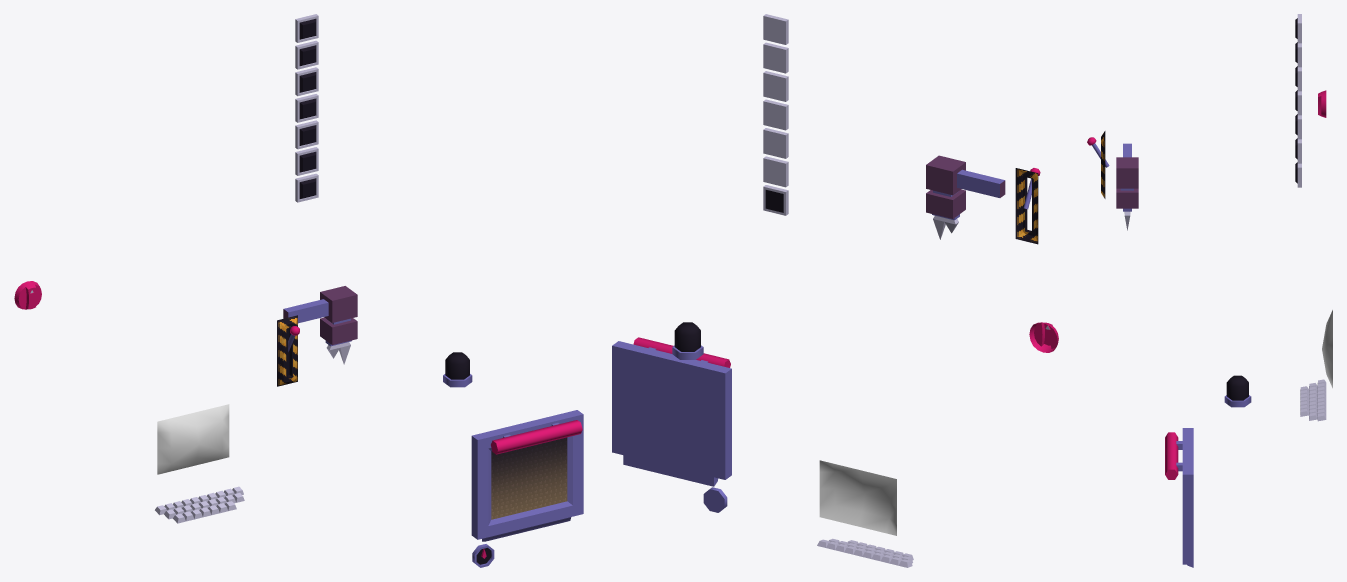
File: machineREMOVABLES.fbx
3 renders of one model, left to right at view 1: azimuth 30°, elevation 25°; view 2: azimuth 150°, elevation 25°; view 3: azimuth 270°, elevation 25°, orthographic. The views are drawn at different scales.
Visible parts, largest first — view 1: Cylinder.014, Cylinder.004, Cube.012, Cube.008, Cube.005, Cylinder.015; view 2: Cylinder.014, Cylinder.004, Cube.012, Cube.008, Cube.005, Cylinder.015, Cube.011; view 3: Cylinder.014, Cylinder.004, Cube.012, Cube.005, Cylinder.015, Cube.008.
Boxes of the visible parts, left/top/right/bottom form: Cylinder.014: left=471, top=410, right=583, bottom=541; Cylinder.004: left=277, top=286, right=357, bottom=386; Cube.012: left=295, top=14, right=318, bottom=202; Cube.008: left=157, top=404, right=229, bottom=474; Cube.005: left=155, top=486, right=244, bottom=523; Cylinder.015: left=443, top=352, right=472, bottom=387; Cylinder.014: left=612, top=337, right=731, bottom=486; Cylinder.004: left=926, top=155, right=1040, bottom=244; Cube.012: left=763, top=14, right=788, bottom=215; Cube.008: left=819, top=460, right=896, bottom=535; Cube.005: left=817, top=538, right=913, bottom=567; Cylinder.015: left=672, top=322, right=703, bottom=359; Cube.011: left=1029, top=322, right=1058, bottom=352; Cylinder.014: left=1165, top=428, right=1193, bottom=567; Cylinder.004: left=1087, top=131, right=1138, bottom=230; Cube.012: left=1295, top=14, right=1301, bottom=187; Cube.005: left=1300, top=379, right=1326, bottom=421; Cylinder.015: left=1224, top=375, right=1251, bottom=407; Cube.008: left=1322, top=310, right=1332, bottom=388.
Bounding box in the file's own units: 231 × 241 × 111.
